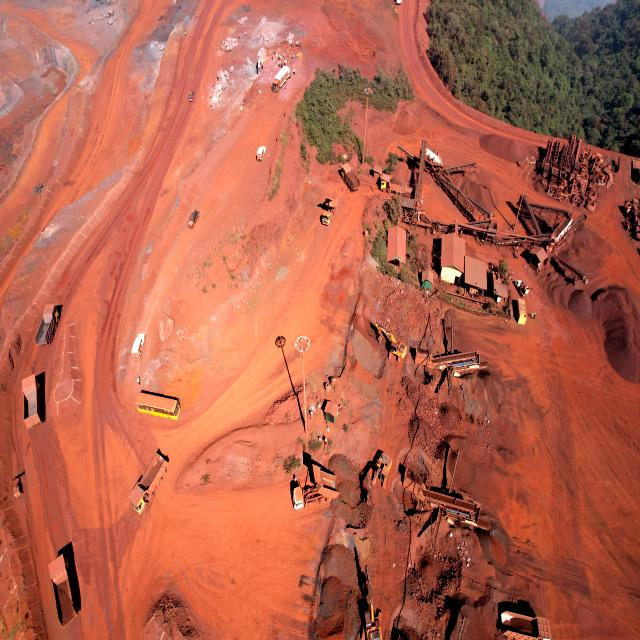Dumper truck: (130, 452, 169, 514), (290, 464, 335, 514), (49, 550, 76, 623), (501, 608, 553, 640), (34, 301, 60, 345), (24, 374, 40, 429), (339, 162, 360, 192), (321, 194, 341, 225), (380, 175, 405, 193)
Excavator: (359, 564, 383, 640), (361, 452, 392, 508), (374, 322, 408, 362)
car: (131, 334, 145, 360), (188, 211, 200, 227), (256, 146, 266, 160), (188, 90, 194, 102)
person: (293, 68, 296, 76), (300, 41, 302, 47), (291, 42, 293, 48), (532, 314, 534, 320)
